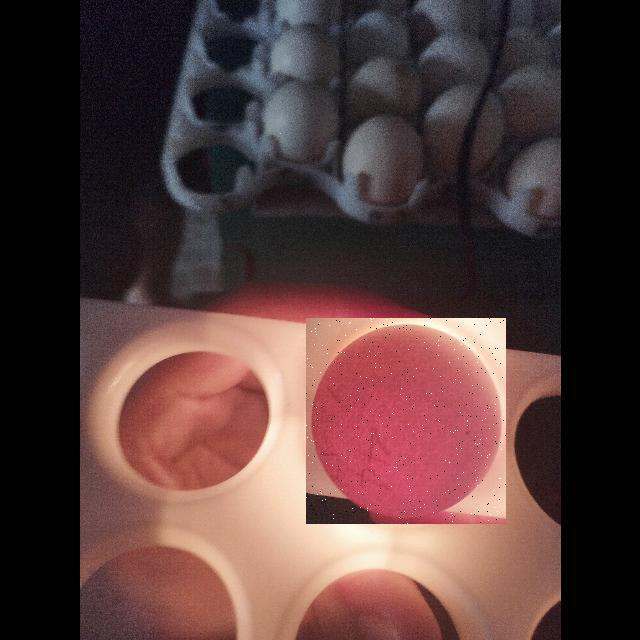Infertile: (306, 318, 506, 524)
